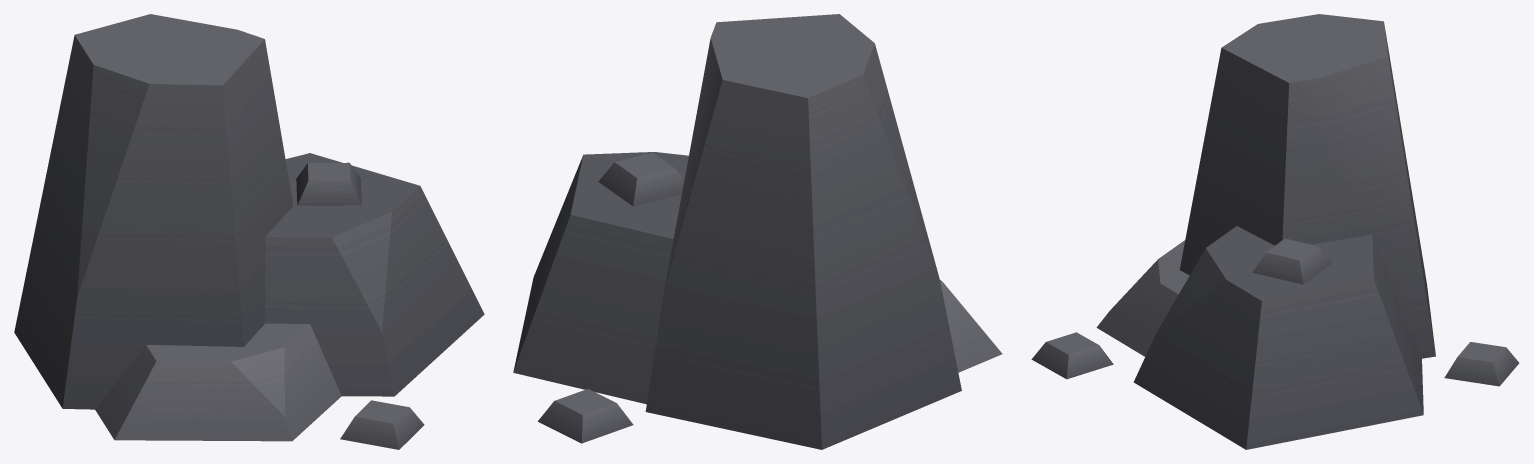
Rendered from rock.glb.
The picture shows the model from 3 angles, left to right: view 1: azimuth 30°, elevation 25°; view 2: azimuth 150°, elevation 25°; view 3: azimuth 270°, elevation 25°; orthographic projection. The views are drawn at different scales.
Parts seen in each view (by area): view 1: rock-a; view 2: rock-a; view 3: rock-a.
Boxes of the visible parts, x1,y1,x2,y2 form: rock-a: [14, 14, 484, 449]; rock-a: [513, 14, 1002, 449]; rock-a: [1031, 14, 1519, 449].
Bounding box in the file's own units: 1.47 × 1.04 × 1.65.
1 material, 1 textured.
